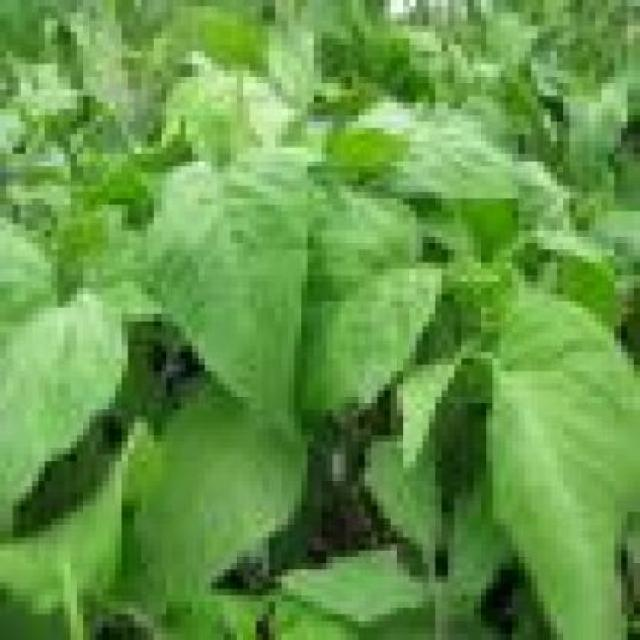Tomato leaf bacterial spot: (135, 123, 315, 449), (359, 91, 538, 200)
